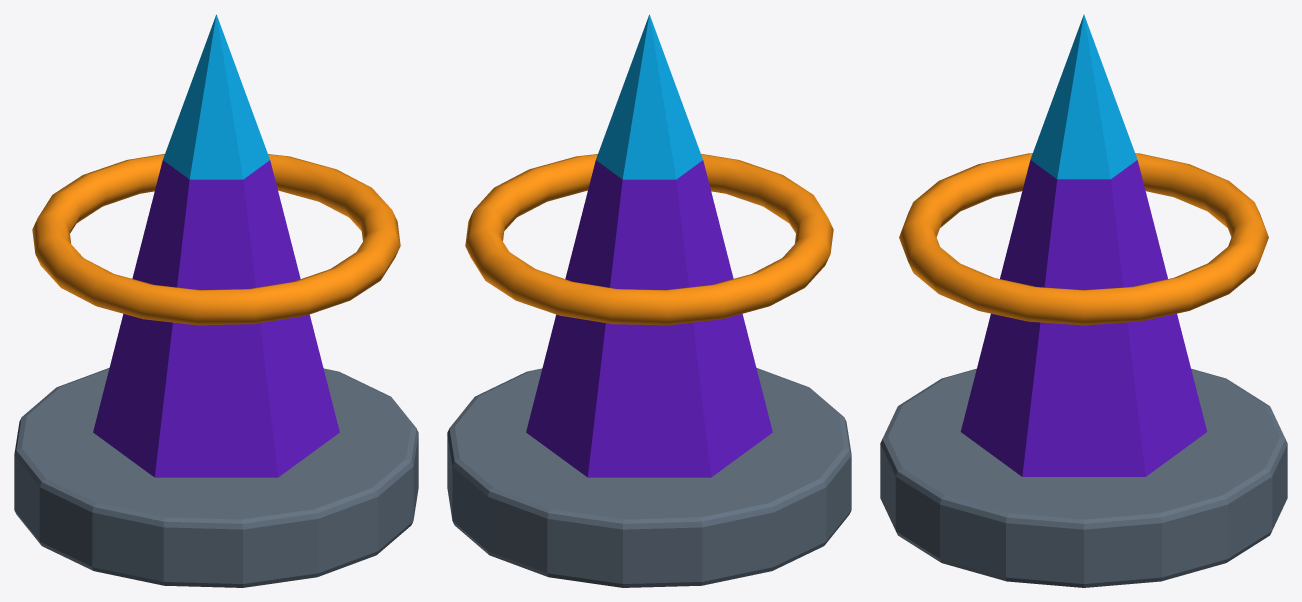
Rendered from lost_relic.obj.
3 renders of one model, left to right at view 1: azimuth 30°, elevation 25°; view 2: azimuth 150°, elevation 25°; view 3: azimuth 270°, elevation 25°, orthographic.
Parts seen in each view (by area): view 1: relic_base_M_stone, relic_crystal_low_M_purple, relic_ring_M_gold, relic_crystal_high_M_cyan; view 2: relic_base_M_stone, relic_crystal_low_M_purple, relic_ring_M_gold, relic_crystal_high_M_cyan; view 3: relic_base_M_stone, relic_crystal_low_M_purple, relic_ring_M_gold, relic_crystal_high_M_cyan.
Boxes of the visible parts, x1,y1,x2,y2 form: relic_base_M_stone: (14,368,418,587); relic_crystal_low_M_purple: (93,160,339,477); relic_ring_M_gold: (32,154,400,325); relic_crystal_high_M_cyan: (163,14,269,179); relic_base_M_stone: (447,368,851,587); relic_crystal_low_M_purple: (526,160,772,477); relic_ring_M_gold: (465,154,833,325); relic_crystal_high_M_cyan: (596,14,702,179); relic_base_M_stone: (880,368,1287,587); relic_crystal_low_M_purple: (960,160,1207,476); relic_ring_M_gold: (899,153,1268,325); relic_crystal_high_M_cyan: (1030,14,1137,179).
Size of the model in its own units: 0.76 by 1.01 by 0.76.
